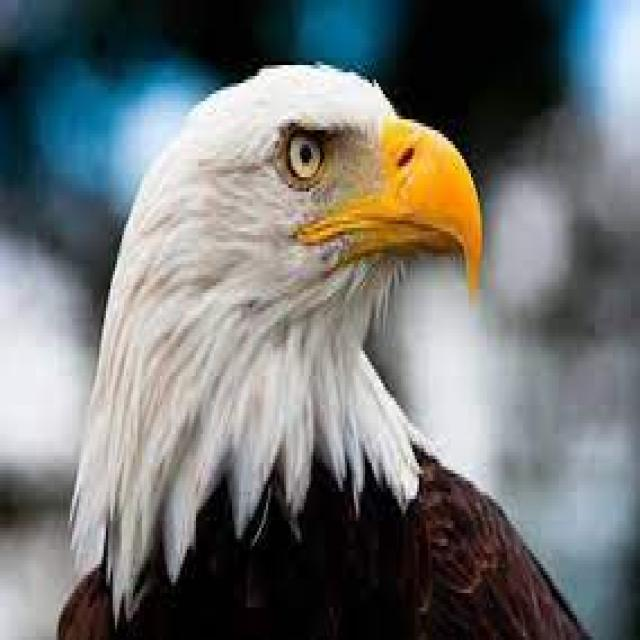Carnivorous: (54, 65, 590, 640)
